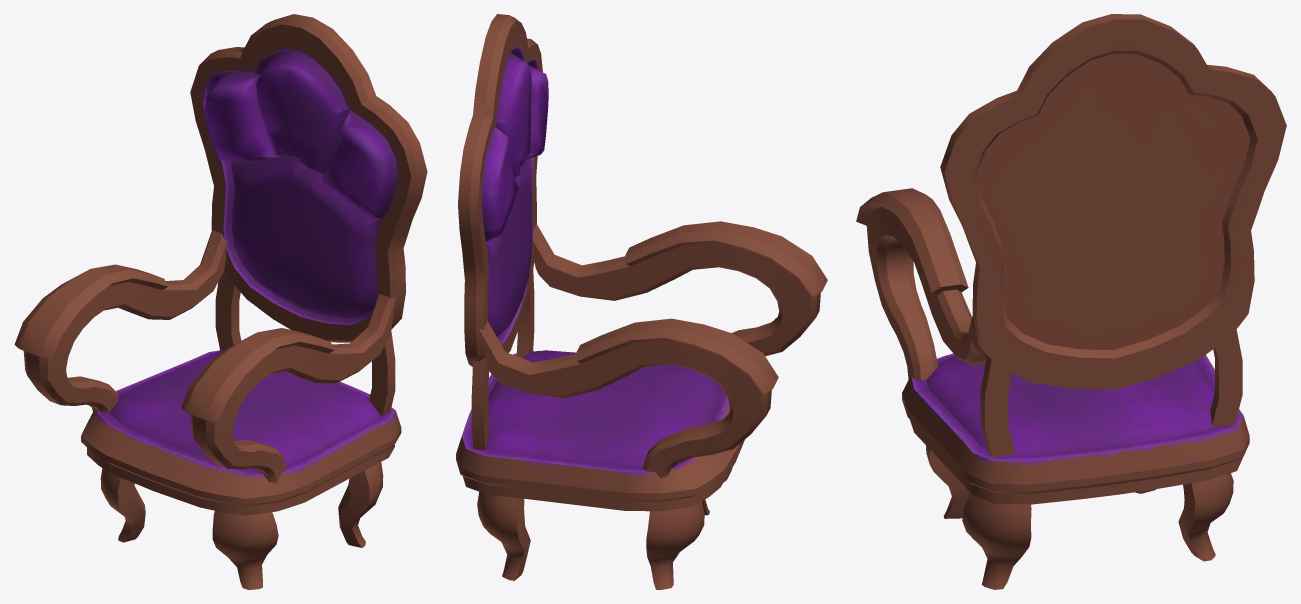
The model's file is Chair.fbx.
3 views of the same model, side by side, from view 1: azimuth 30°, elevation 25°; view 2: azimuth 150°, elevation 25°; view 3: azimuth 270°, elevation 25° (orthographic). The views are drawn at different scales.
Parts seen in each view (by area): view 1: chairBack, Chair, armRest1, armRest, chairLeg2, chairLeg3, chairLeg, chairBackSet, chairBackSet1; view 2: Chair, chairBack, armRest, armRest1, chairLeg, chairLeg1, chairBackSet, chairBackSet1; view 3: chairBack, Chair, armRest1, chairLeg3, chairLeg1, chairBackSet1, chairBackSet, chairLeg2.
Boxes of the visible parts, left/top/right/bottom form: chairBack: left=190, top=14, right=427, bottom=342; Chair: left=81, top=350, right=401, bottom=515; armRest1: left=181, top=294, right=395, bottom=483; armRest: left=14, top=230, right=227, bottom=412; chairLeg2: left=212, top=511, right=278, bottom=589; chairLeg3: left=338, top=462, right=383, bottom=547; chairLeg: left=100, top=468, right=145, bottom=542; chairBackSet: left=215, top=272, right=241, bottom=350; chairBackSet1: left=369, top=331, right=395, bottom=415; Chair: left=456, top=350, right=744, bottom=511; chairBack: left=458, top=14, right=548, bottom=366; armRest: left=479, top=318, right=778, bottom=478; armRest1: left=532, top=221, right=827, bottom=356; chairLeg: left=646, top=501, right=704, bottom=589; chairLeg1: left=477, top=492, right=530, bottom=580; chairBackSet: left=471, top=357, right=489, bottom=449; chairBackSet1: left=516, top=271, right=534, bottom=358; chairBack: left=940, top=14, right=1286, bottom=389; Chair: left=902, top=353, right=1249, bottom=504; armRest1: left=856, top=188, right=986, bottom=380; chairLeg3: left=962, top=493, right=1031, bottom=589; chairLeg1: left=1178, top=473, right=1233, bottom=561; chairBackSet1: left=980, top=355, right=1015, bottom=457; chairBackSet: left=1210, top=329, right=1242, bottom=426; chairLeg2: left=926, top=445, right=970, bottom=518.
Size of the model in its own units: 5.68 by 8.18 by 5.6.
